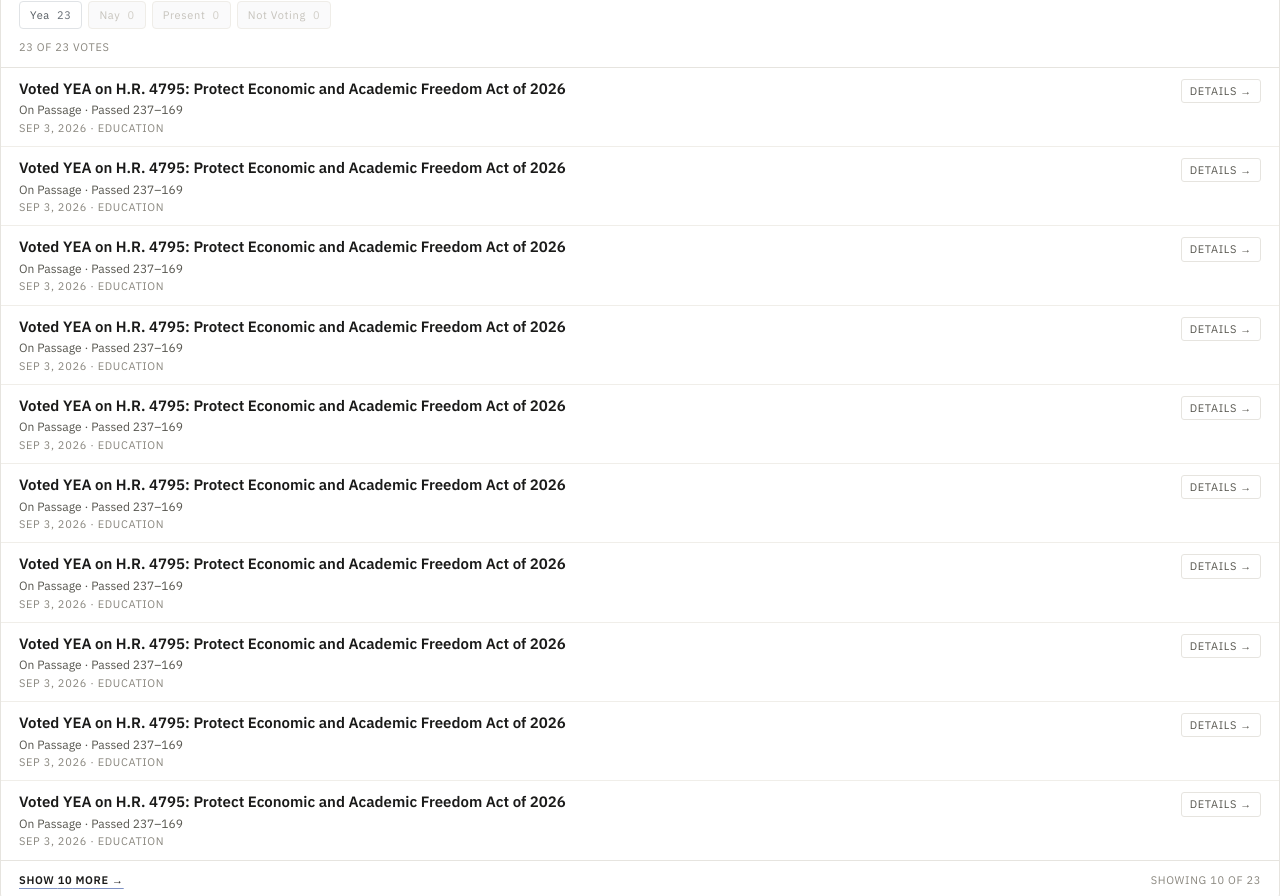
Scenario: roll call votes › shows ten at a time and offers the rest
The width and height of the screenshot is (1280, 896).
(page scrolled)
Click the button "Show 10 more →" at (71, 880), box x1=19 y1=873 x2=124 y2=887
(page scrolled)
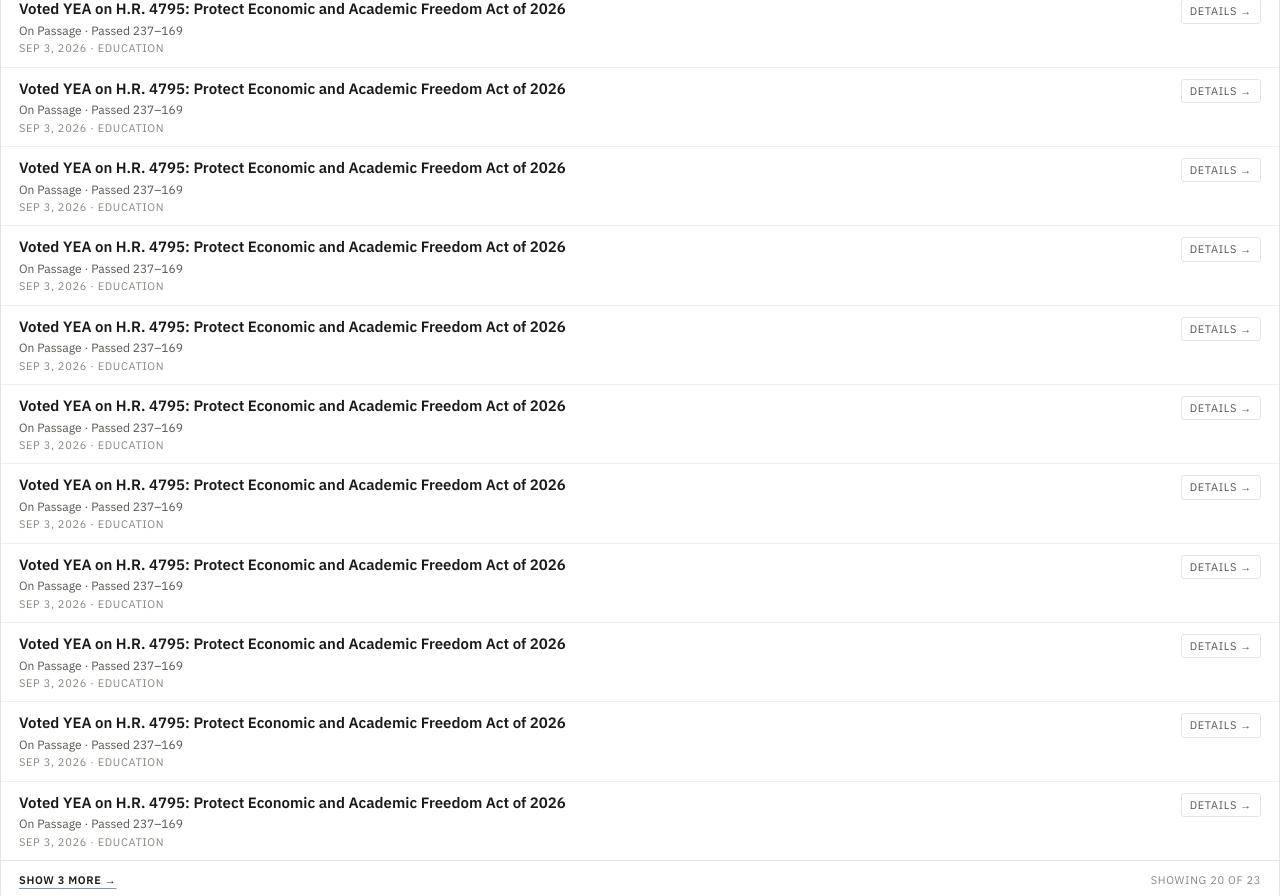
Click the button "Show 3 more →" at (68, 880), box x1=19 y1=873 x2=116 y2=887
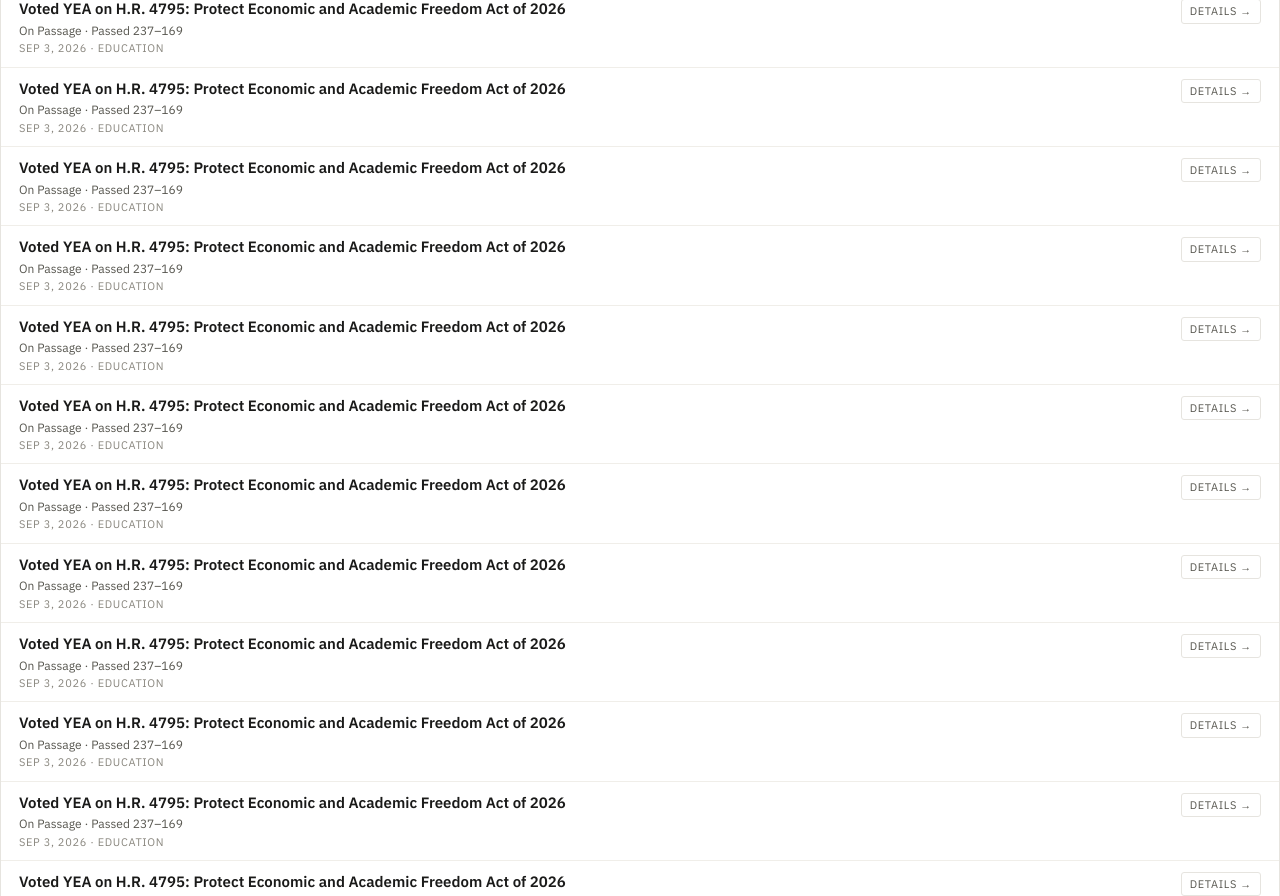
expect the button "more" is gone: met
